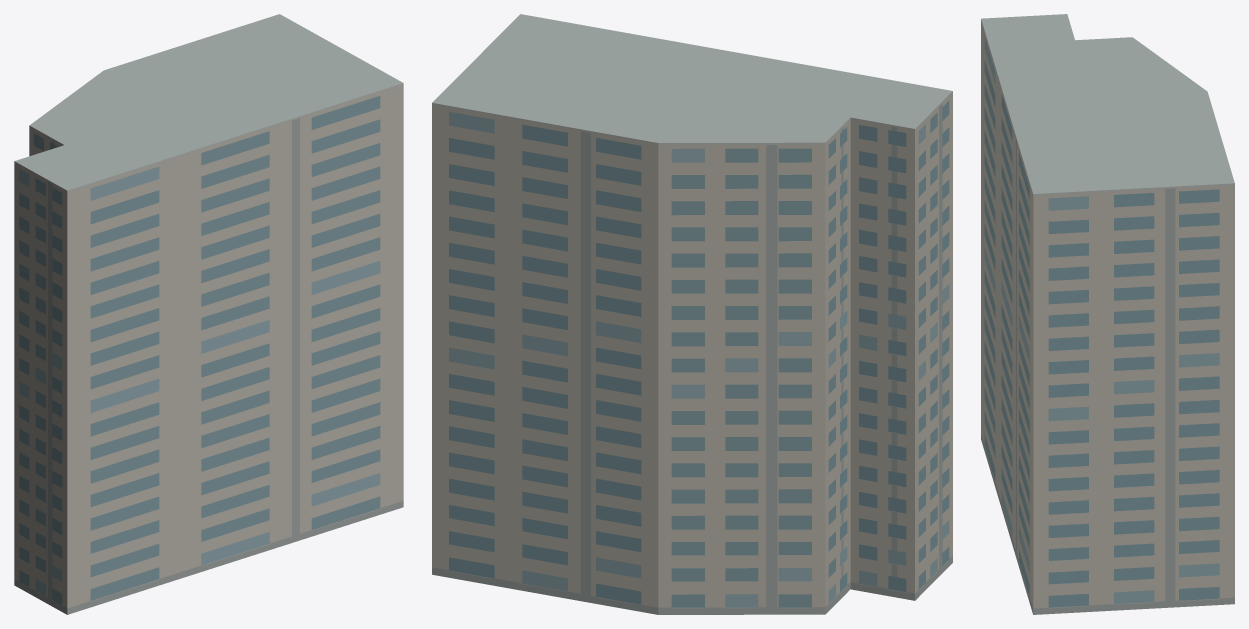
The model's file is residential-c3d3eb49-c19a-415b-ab14-cefe5a223987.glb.
3 views of the same model, side by side, from view 1: azimuth 30°, elevation 25°; view 2: azimuth 150°, elevation 25°; view 3: azimuth 270°, elevation 25° (orthographic). The views are drawn at different scales.
Visible parts, largest first — view 1: residential-c3d3eb49-c19a-415b-ab14-cefe5a223987.tmp; view 2: residential-c3d3eb49-c19a-415b-ab14-cefe5a223987.tmp; view 3: residential-c3d3eb49-c19a-415b-ab14-cefe5a223987.tmp.
Boxes of the visible parts, x1,y1,x2,y2 form: residential-c3d3eb49-c19a-415b-ab14-cefe5a223987.tmp: [14, 14, 403, 614]; residential-c3d3eb49-c19a-415b-ab14-cefe5a223987.tmp: [432, 14, 952, 614]; residential-c3d3eb49-c19a-415b-ab14-cefe5a223987.tmp: [981, 14, 1234, 614].
Bounding box in the file's own units: 51.39 × 56 × 30.62.
